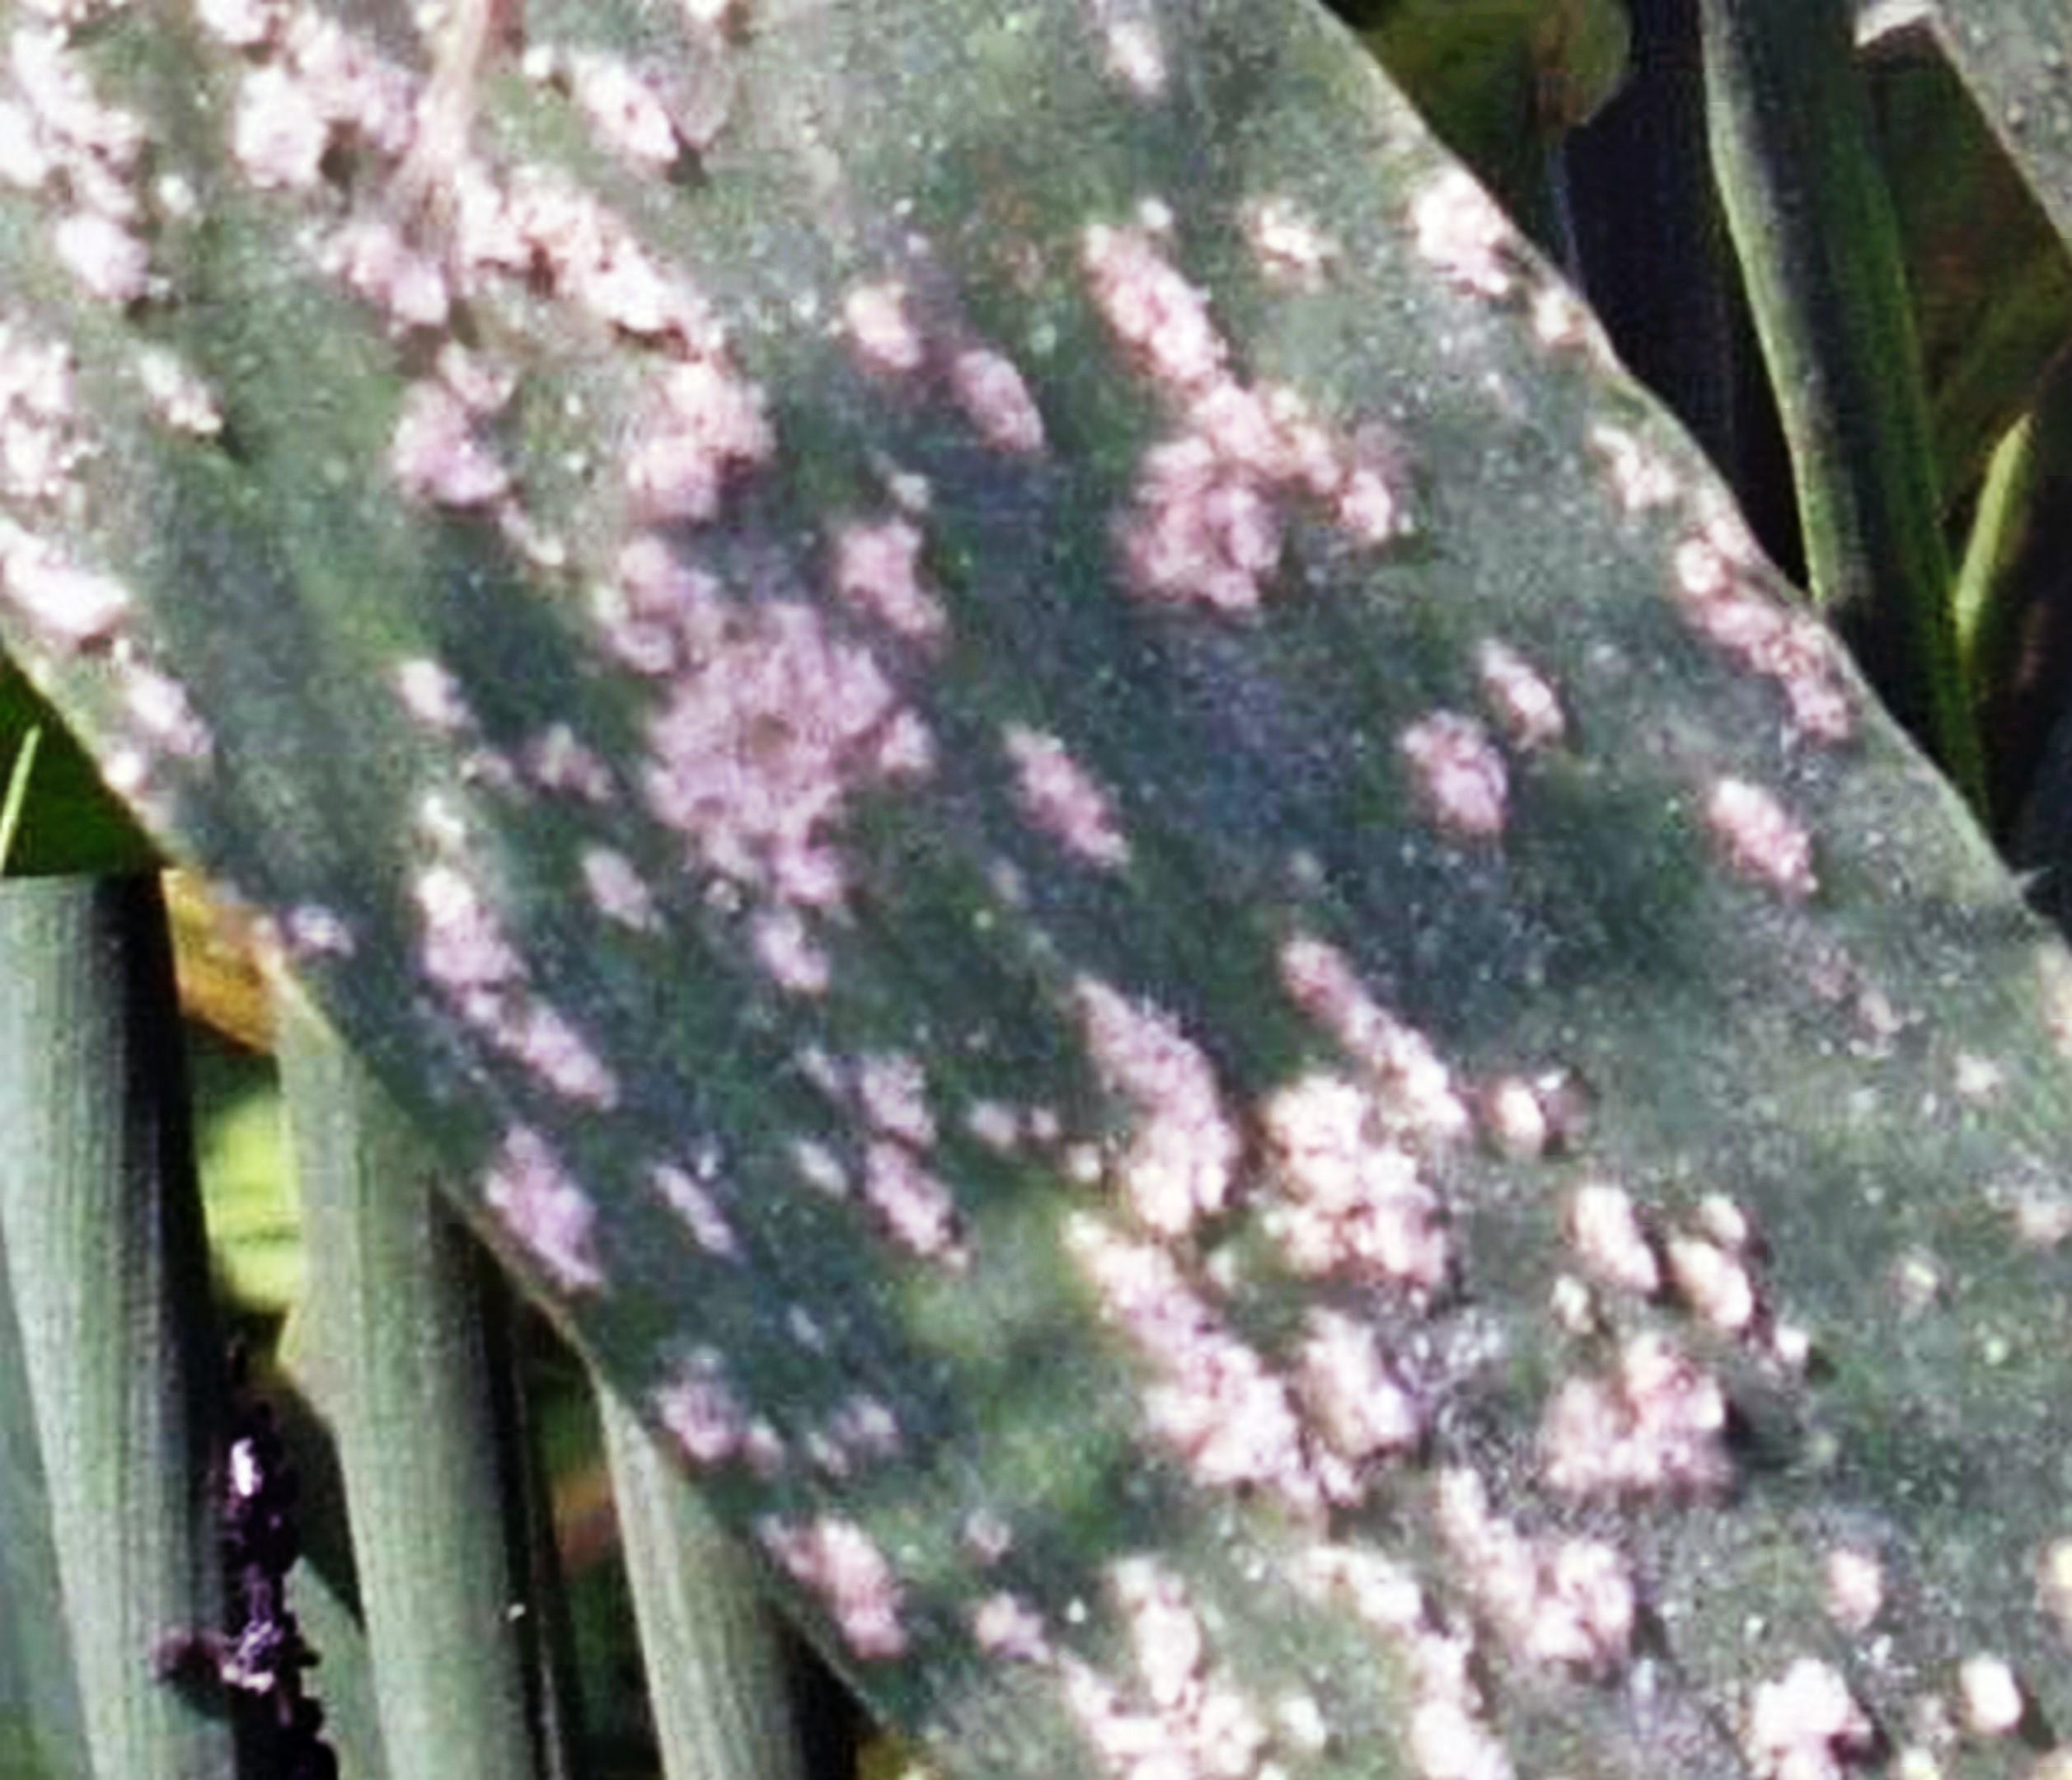Powdery Mildew: (141, 153, 1931, 1722)
